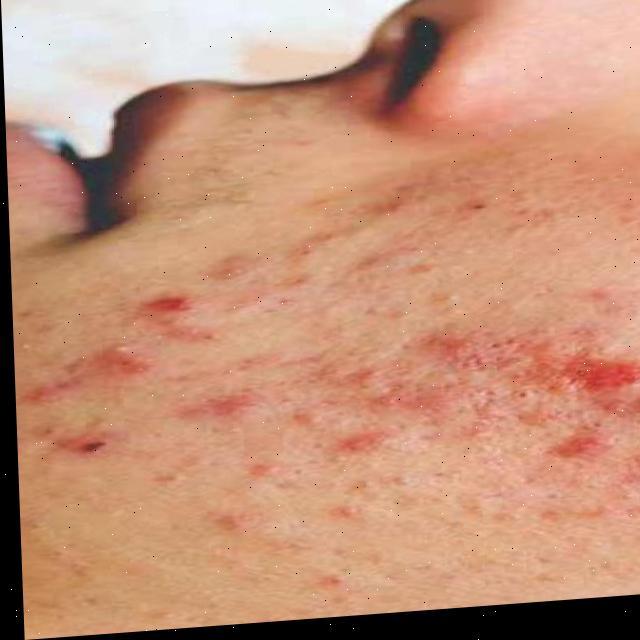Acne: (62, 193, 640, 628)
